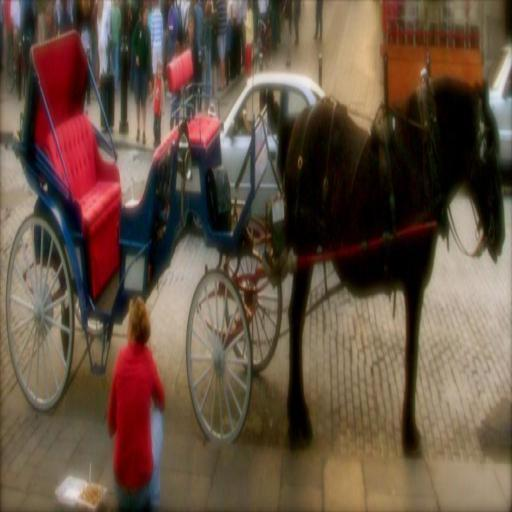horse: (275, 70, 507, 450)
